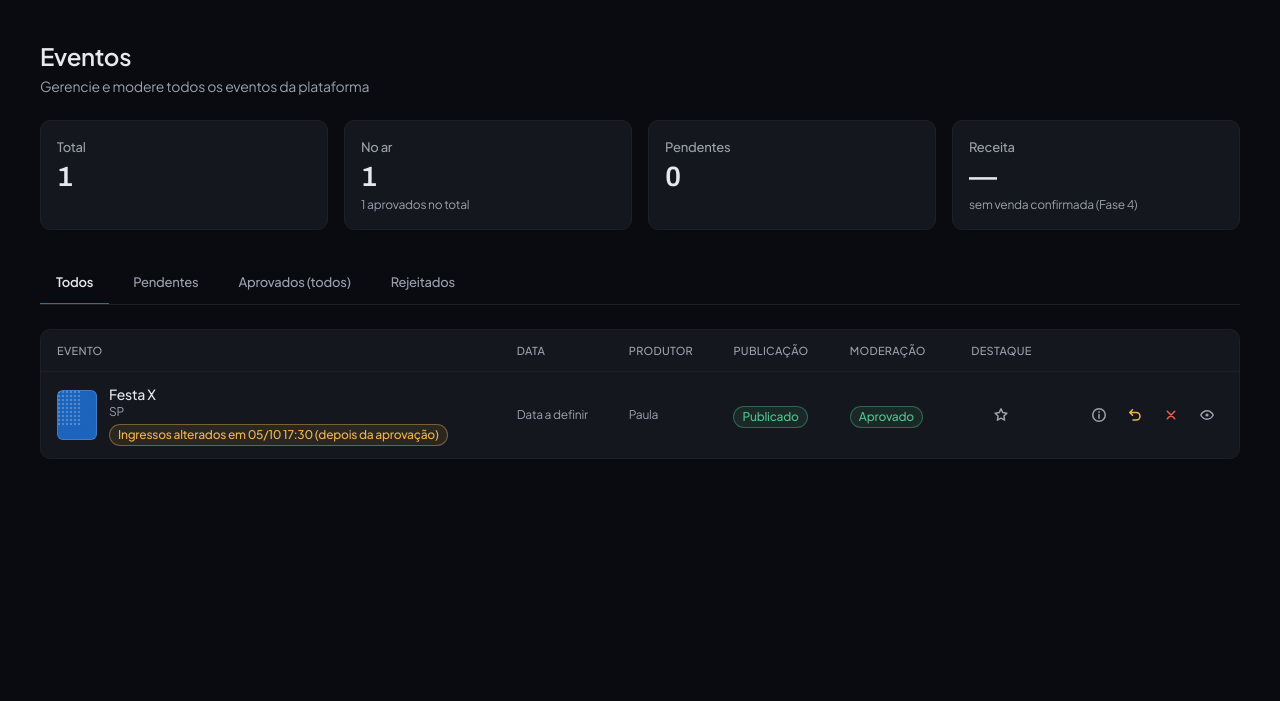
it: detalhe do evento na moderação (S8) › último aceite com texto alterado: "hash não confere"
Click the button named "Ver detalhes do evento" at [1099, 415], box x1=1083 y1=399 x2=1115 y2=431
(page scrolled)
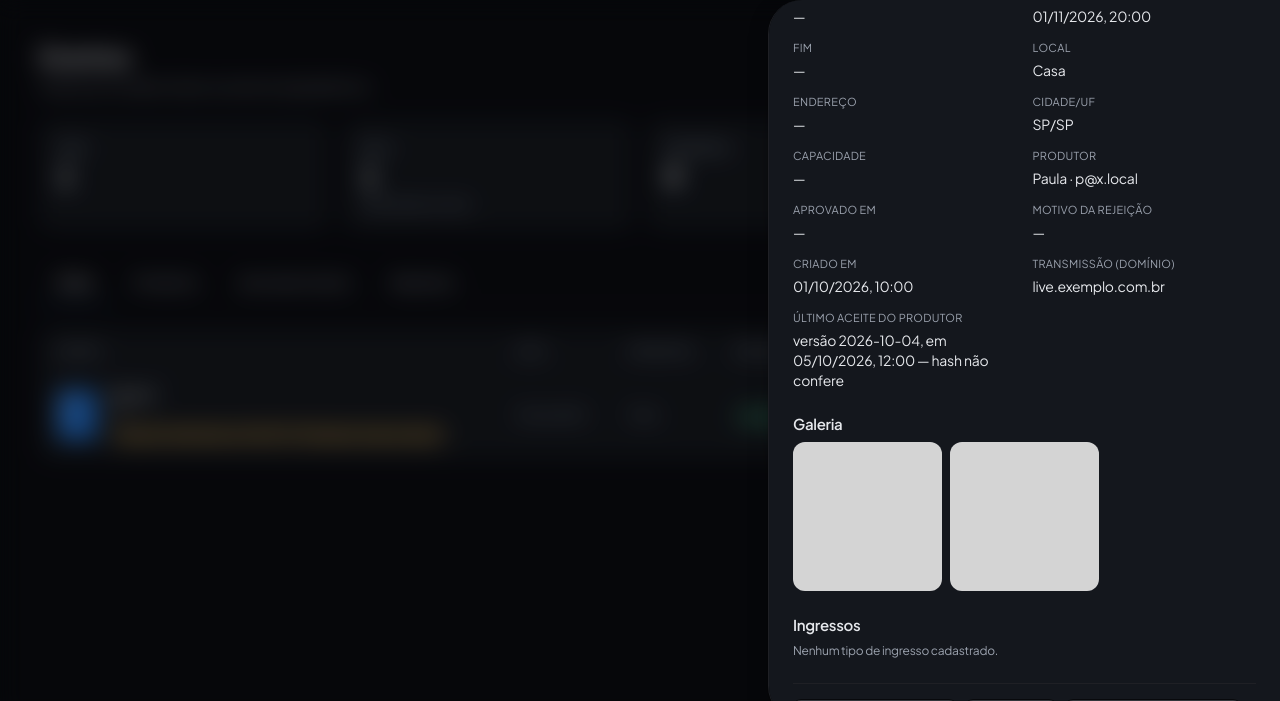
Check: the text "versão 2026-10-04, em 05/10/2026, 12:00 — hash não confere" is shown, box x1=793 y1=330 x2=1016 y2=390
